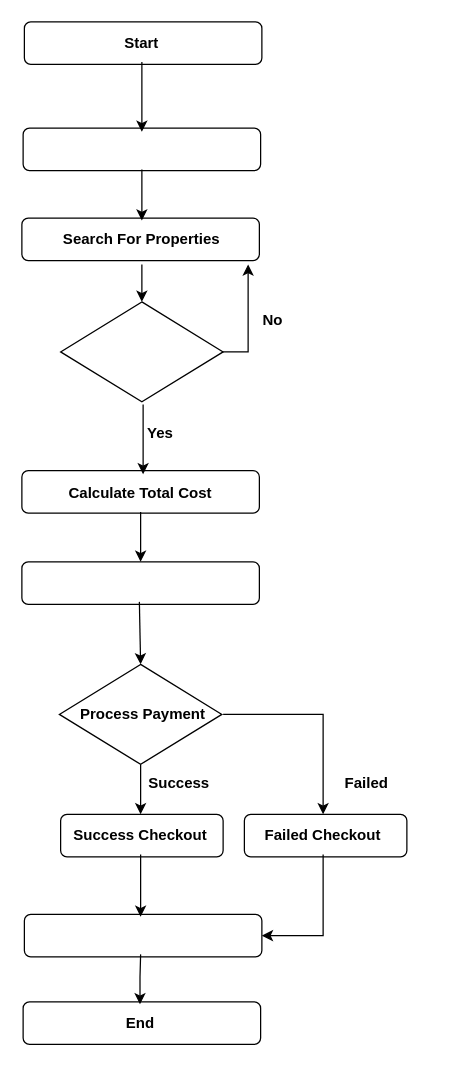
Some shapes in this 470 by 1066 pixel diagram are drawn without their labels. The shapes that lost their labels are listed below. From the top down, each one's box as (x1, y1, x2, y2) in pixels, then its label:
(22, 127, 261, 171): User Logs In
(59, 301, 223, 402): Check Availability
(21, 561, 259, 604): Confirm Booking
(23, 913, 262, 957): Save Booking To DB
